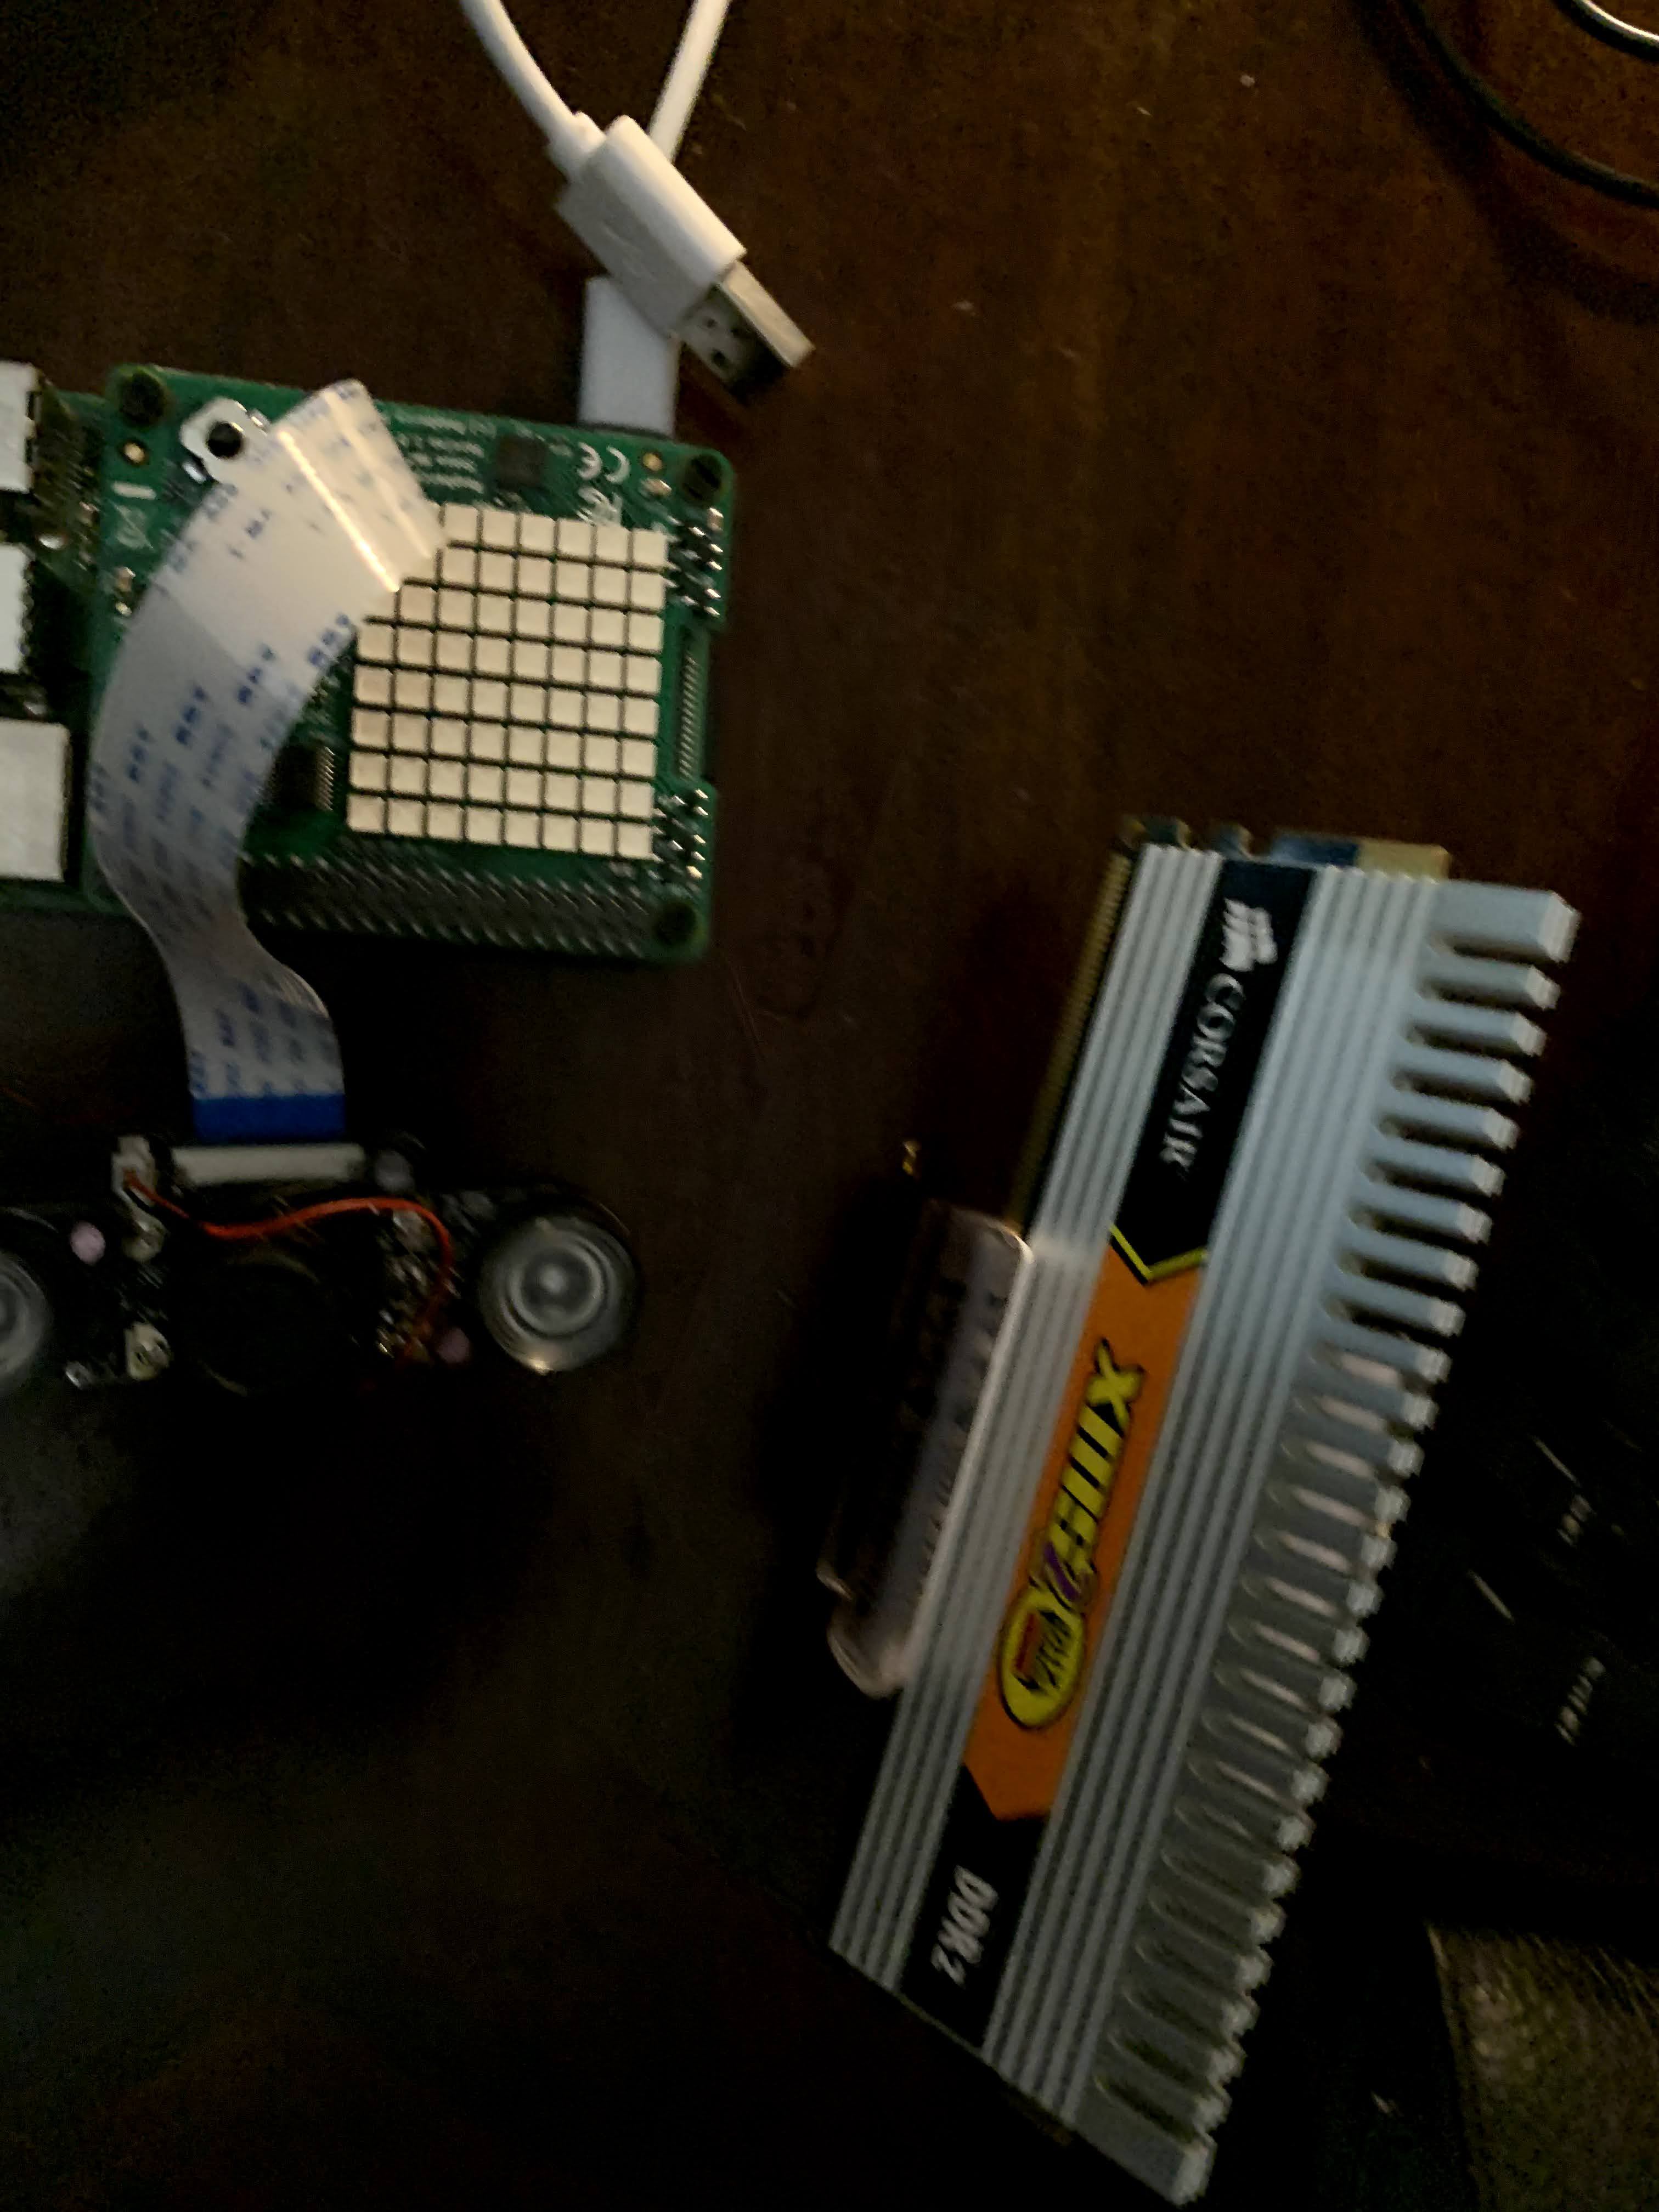Space-debris-medium: (814, 791, 1617, 2212)
